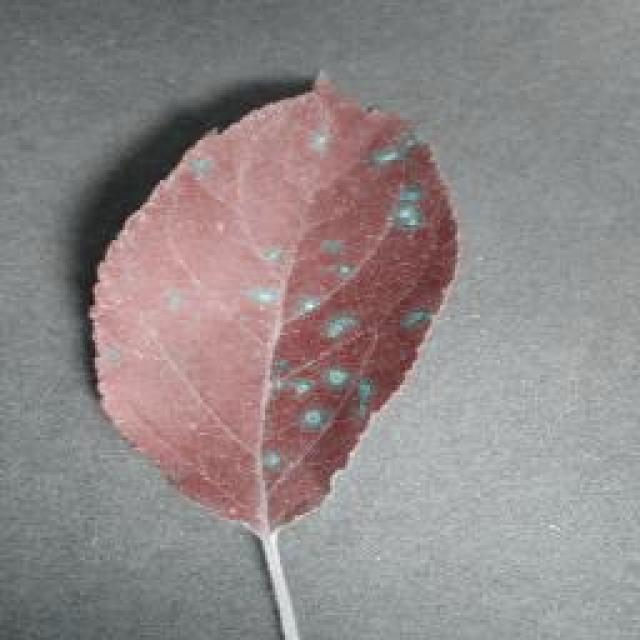apple healthy: (85, 68, 460, 540)
